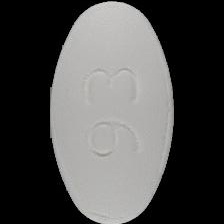76237-272: (0, 0, 224, 224)
